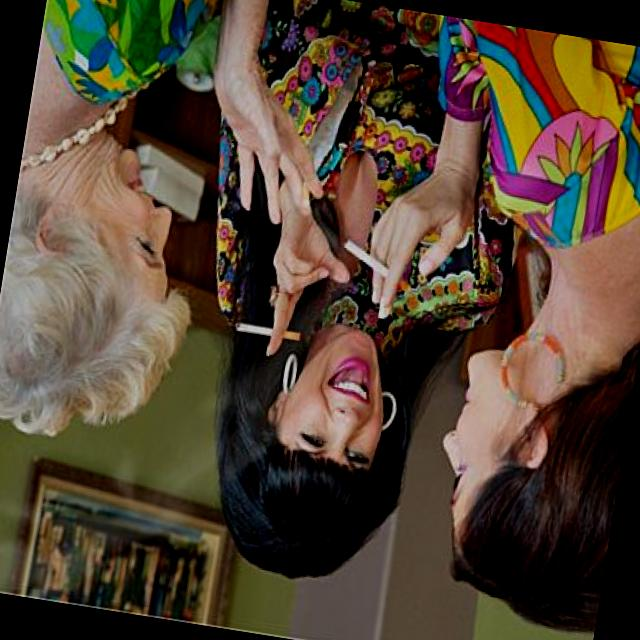smoke: (336, 233, 415, 296), (230, 317, 306, 344)
